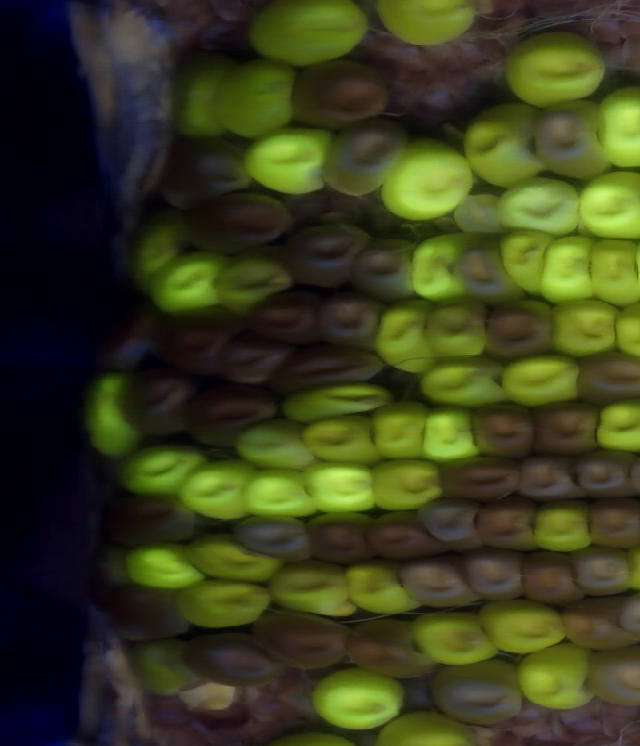fluorescent: (374, 130, 474, 229), (241, 1, 374, 74), (498, 27, 615, 109), (455, 95, 554, 191), (206, 57, 305, 147), (304, 659, 412, 734), (259, 557, 366, 628), (238, 122, 335, 199), (164, 48, 239, 142), (172, 453, 268, 525), (487, 172, 588, 239), (365, 1, 488, 55), (407, 605, 506, 671), (77, 369, 145, 465), (144, 245, 231, 320), (178, 532, 292, 589), (208, 243, 294, 317), (127, 208, 195, 300), (274, 379, 399, 429), (406, 228, 482, 310), (514, 640, 595, 716), (475, 591, 572, 654), (369, 292, 439, 379), (174, 573, 275, 633), (115, 439, 210, 502), (118, 632, 201, 700), (546, 291, 626, 361), (414, 354, 511, 411), (298, 455, 382, 519), (496, 350, 586, 409), (336, 558, 421, 620), (366, 451, 448, 515), (572, 168, 640, 245), (232, 414, 319, 473), (535, 230, 601, 307), (237, 463, 320, 524), (297, 411, 386, 467), (369, 704, 487, 746), (414, 401, 490, 466), (421, 295, 492, 364), (525, 491, 595, 559), (492, 227, 559, 298), (124, 539, 208, 594), (583, 232, 640, 313), (591, 81, 640, 175), (366, 398, 433, 464), (589, 390, 640, 458)
nonfluorescent: (172, 185, 299, 260), (157, 130, 266, 217), (284, 53, 393, 135), (314, 112, 409, 203), (524, 95, 620, 184), (426, 650, 529, 731), (175, 625, 294, 693), (246, 606, 358, 677), (337, 614, 443, 686), (280, 214, 375, 293), (273, 334, 388, 398), (93, 488, 204, 553), (115, 361, 204, 441), (181, 375, 274, 450), (157, 300, 245, 379), (97, 582, 195, 646), (447, 239, 534, 309), (90, 292, 159, 379), (393, 549, 488, 611), (555, 589, 640, 658), (479, 292, 563, 360), (357, 506, 455, 564), (246, 282, 326, 353), (311, 283, 393, 352), (345, 230, 424, 301), (526, 394, 604, 459), (510, 543, 589, 606), (229, 511, 319, 566), (467, 398, 544, 462), (437, 451, 526, 506), (457, 544, 533, 607), (304, 509, 381, 569), (216, 329, 287, 392), (467, 497, 545, 554), (568, 540, 640, 601), (568, 347, 640, 407), (511, 453, 590, 505), (416, 495, 486, 553), (565, 449, 640, 503), (75, 538, 131, 609), (577, 493, 640, 555), (585, 639, 640, 710)
